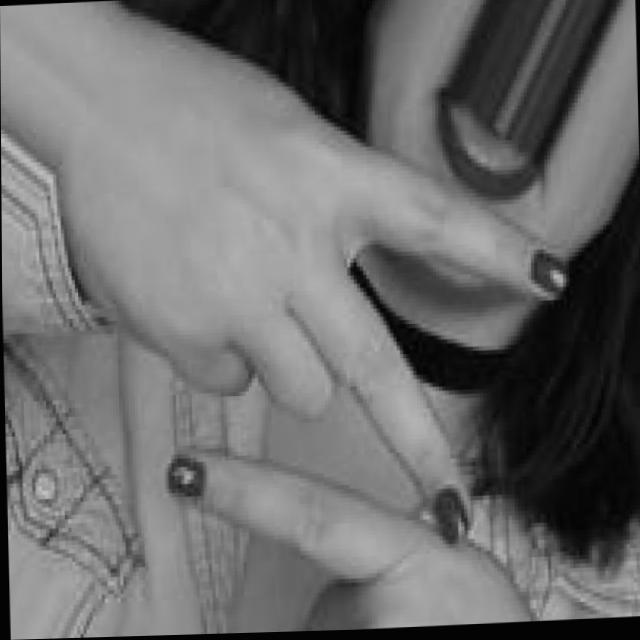Z: (62, 15, 566, 629)
